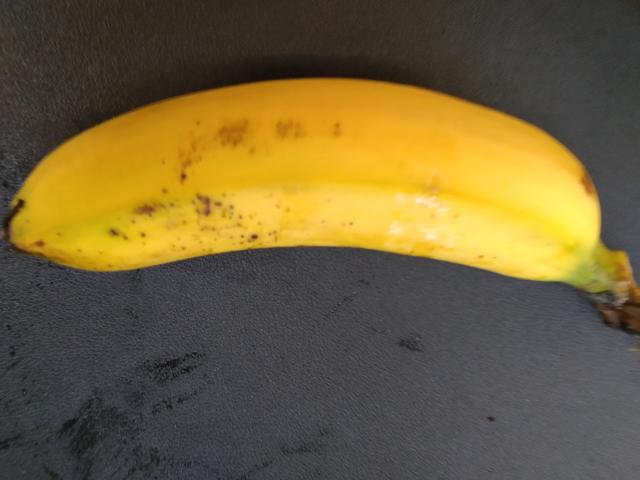ripe: (25, 54, 639, 336)
